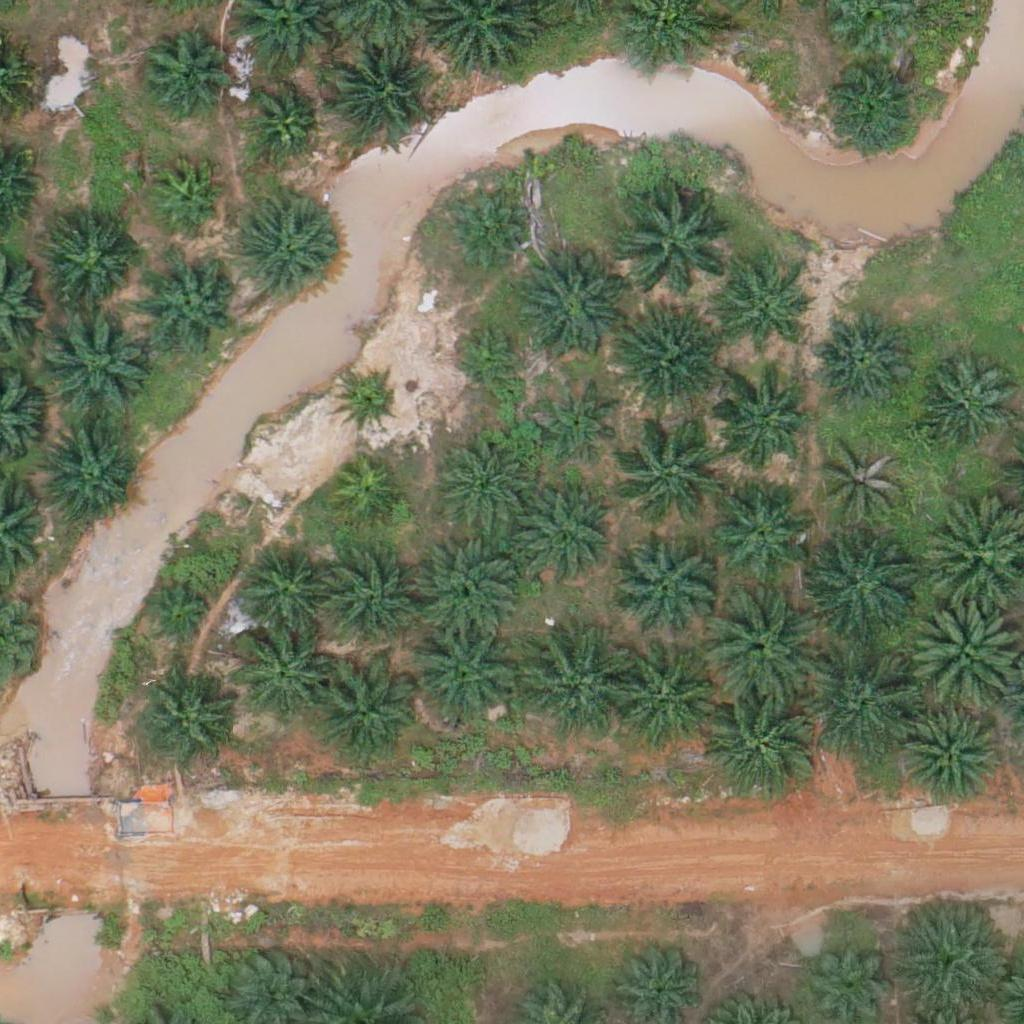Kelapa_Sawit: (705, 690, 818, 803), (618, 180, 731, 293), (512, 253, 625, 366), (410, 531, 523, 644), (407, 619, 520, 732), (309, 658, 422, 771), (38, 304, 151, 417), (893, 897, 1005, 1011), (617, 411, 729, 525), (515, 628, 627, 742), (908, 594, 1020, 707), (810, 649, 922, 762), (806, 528, 918, 641), (704, 590, 816, 703), (605, 647, 717, 760), (608, 308, 720, 421), (914, 354, 1014, 455), (710, 374, 810, 475), (612, 536, 712, 637), (512, 487, 612, 588), (320, 553, 420, 654), (235, 544, 335, 645), (37, 425, 137, 526), (137, 670, 237, 771), (899, 706, 999, 806), (820, 56, 920, 156), (811, 309, 911, 409), (710, 478, 810, 578), (327, 42, 427, 142), (237, 202, 337, 302), (435, 435, 535, 535), (230, 624, 330, 724), (143, 255, 243, 355), (535, 381, 623, 469), (440, 189, 528, 277), (137, 27, 225, 115), (48, 222, 136, 310), (820, 440, 907, 528), (722, 270, 809, 358), (149, 158, 224, 234), (244, 84, 319, 159), (452, 320, 527, 395), (328, 458, 403, 533), (143, 582, 218, 657), (337, 371, 400, 434)
